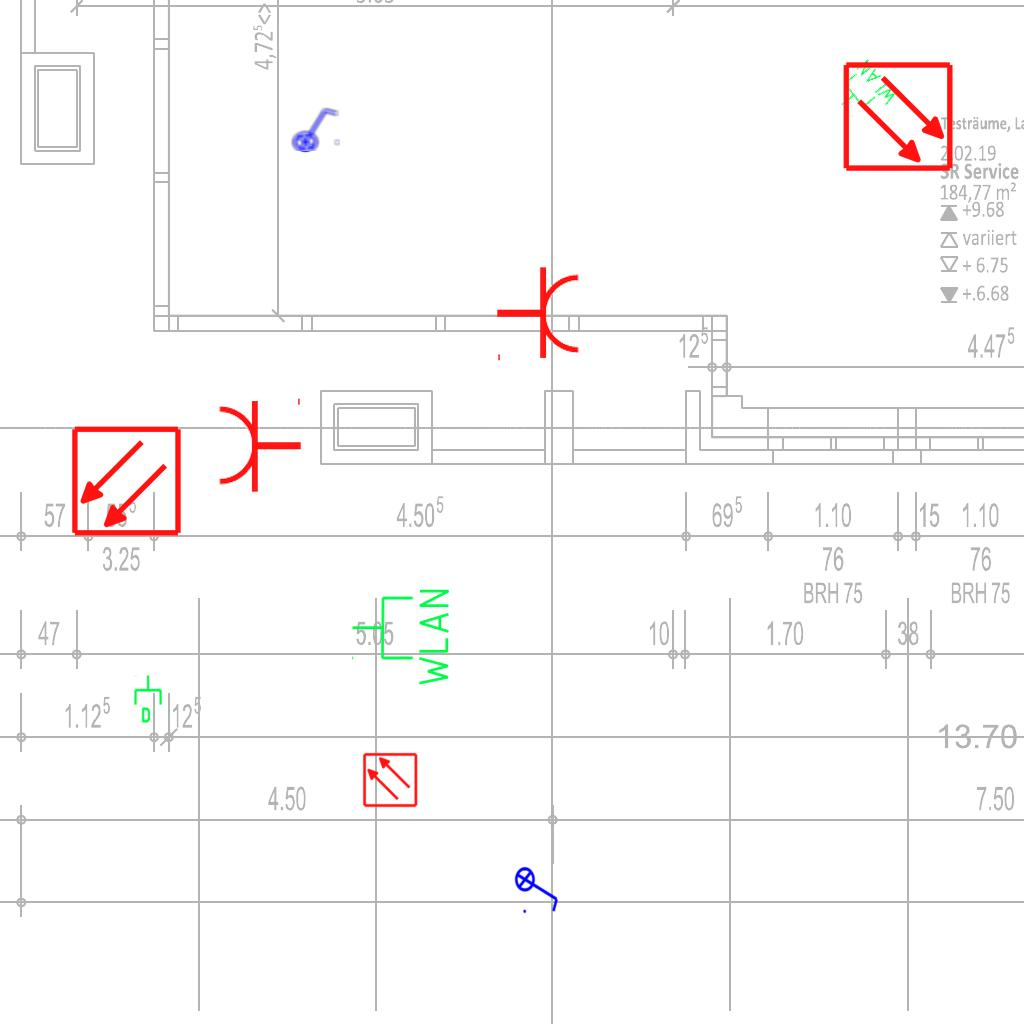Ausschalter_beleuchtet: (514, 860, 562, 916), (286, 105, 342, 153)
Datenanschluss_einfach: (132, 674, 166, 724)
RMO_Rauchmelder_optischer: (70, 425, 183, 538), (842, 60, 955, 173), (362, 752, 418, 808)
Schukosteckdose_einfach: (495, 265, 582, 365), (216, 394, 303, 494)
WLAN: (349, 585, 453, 690), (827, 56, 901, 130)
